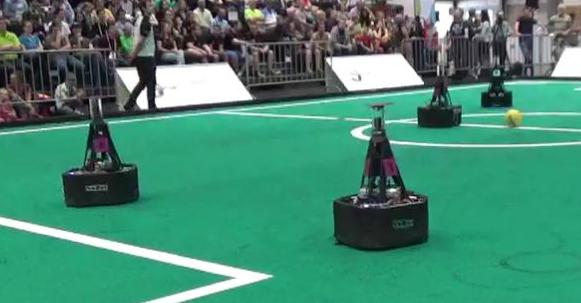robot: (332, 99, 432, 253), (56, 93, 142, 208), (415, 60, 464, 129), (479, 59, 516, 109)
